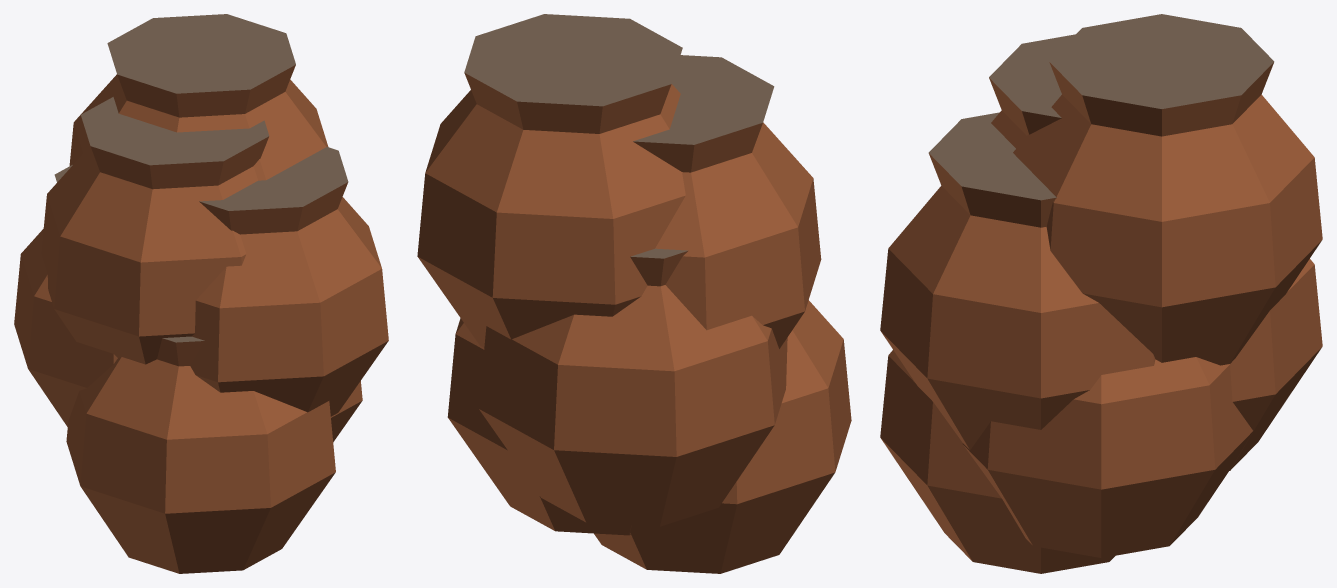
File: w3d_item_clay_pot_l.glb
3 views of the same model, side by side, from view 1: azimuth 30°, elevation 25°; view 2: azimuth 150°, elevation 25°; view 3: azimuth 270°, elevation 25° (orthographic). The views are drawn at different scales.
Visible parts, largest first — view 1: item_009_clay_pot_l; view 2: item_009_clay_pot_l; view 3: item_009_clay_pot_l.
Part boxes in pixels (box(x1,y1,x2,y2)): item_009_clay_pot_l: box(14, 14, 388, 573); item_009_clay_pot_l: box(417, 14, 851, 573); item_009_clay_pot_l: box(880, 14, 1322, 573).
Size of the model in its own units: 0.39 by 0.55 by 0.44.
